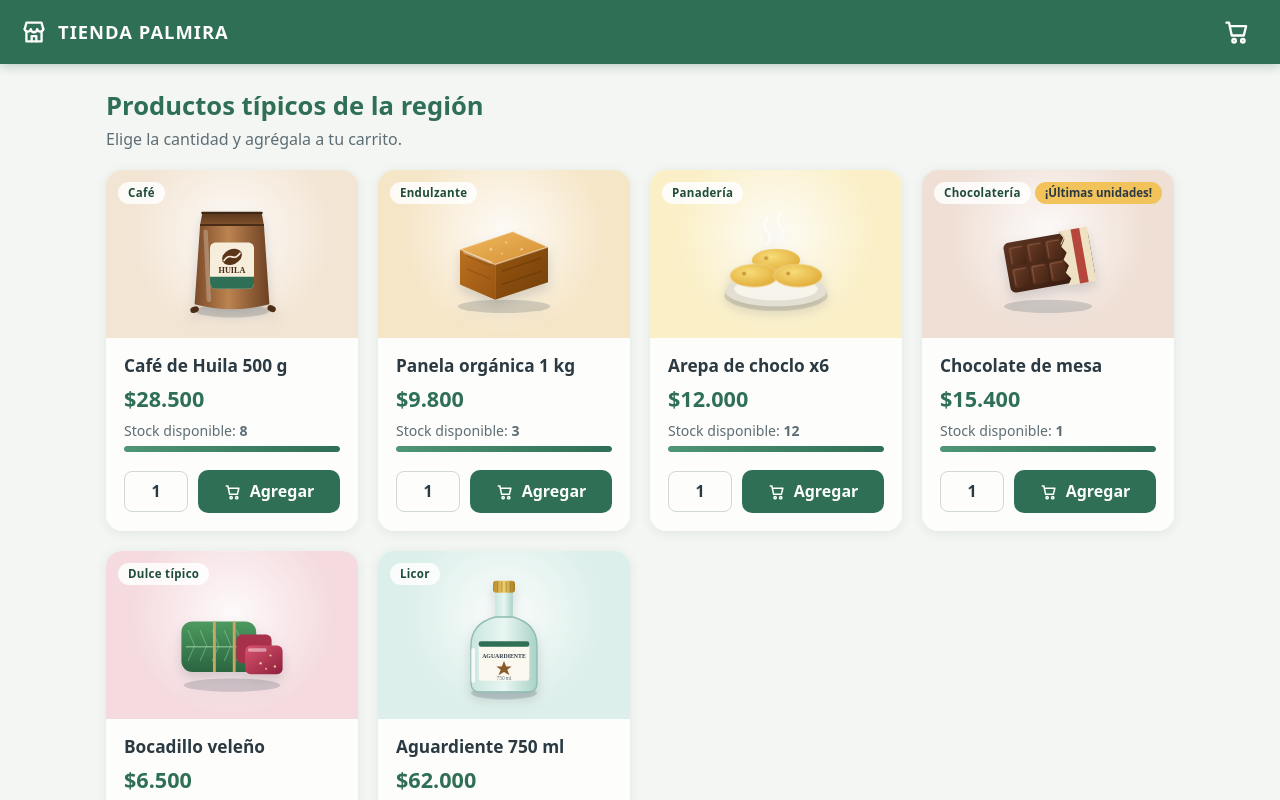
Scenario: Integración con el backend (API simulada) › Finalizar compra envía el pedido, vacía el carrito y confirma
Replace the text in the number field named "Cantidad de Café de Huila 500 g" with "2" at (156, 492), box [124, 471, 188, 512]
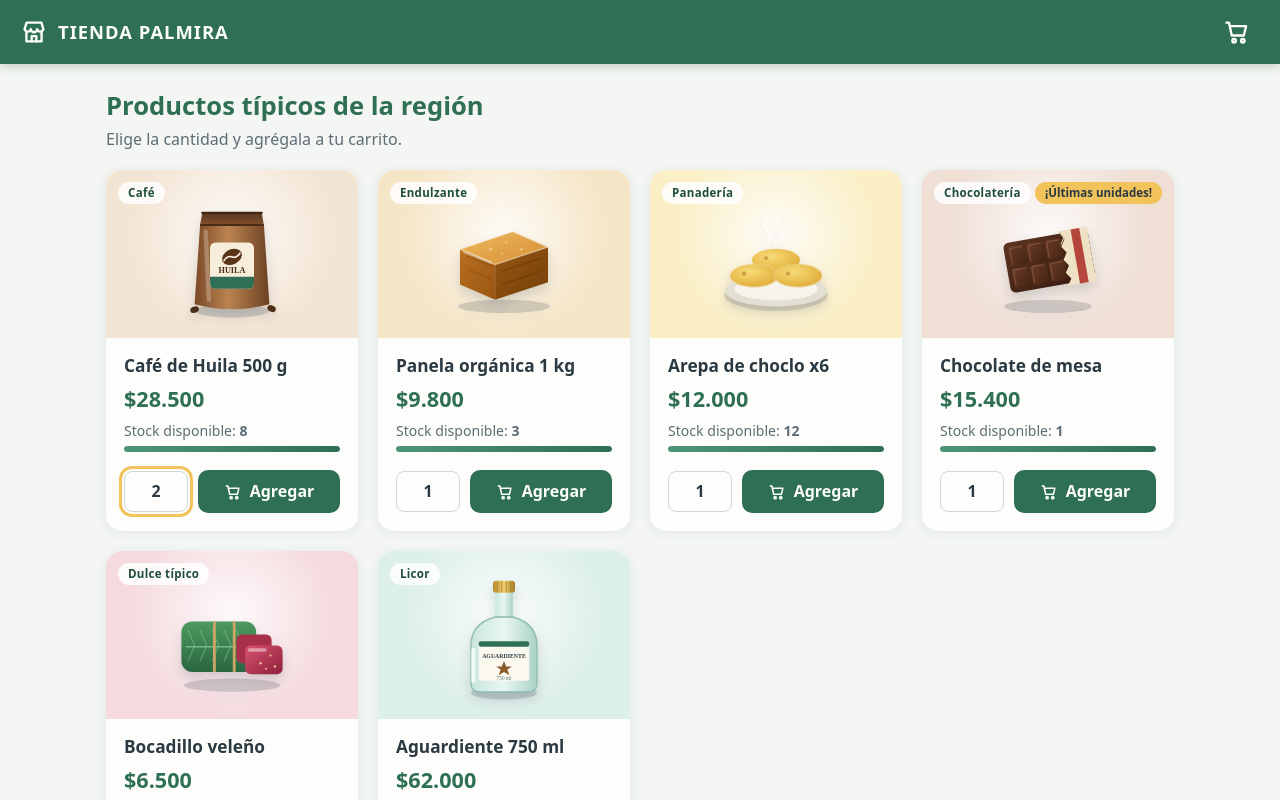
Click the button "Agregar" below "$28.500" at (269, 492), box [198, 470, 340, 513]
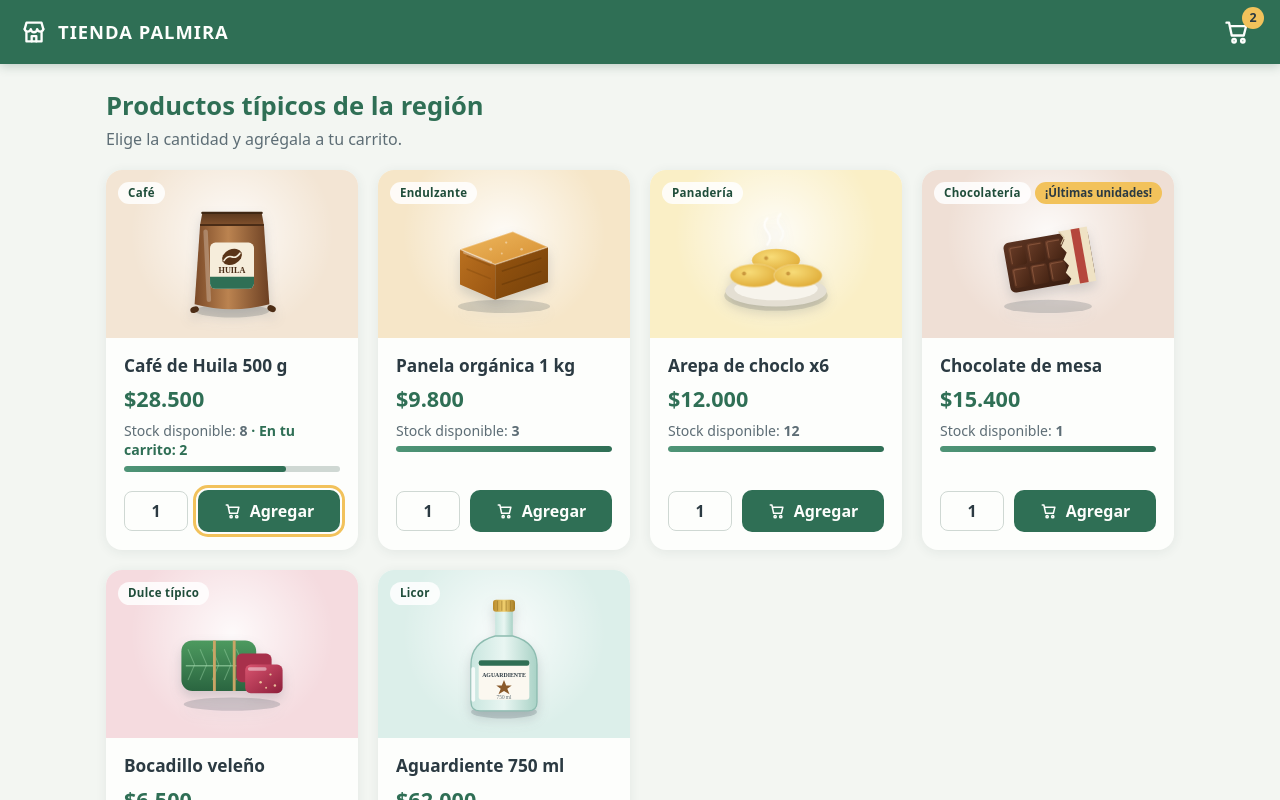
Click the button named "Abrir carrito" at (1237, 32), box [1214, 9, 1260, 55]
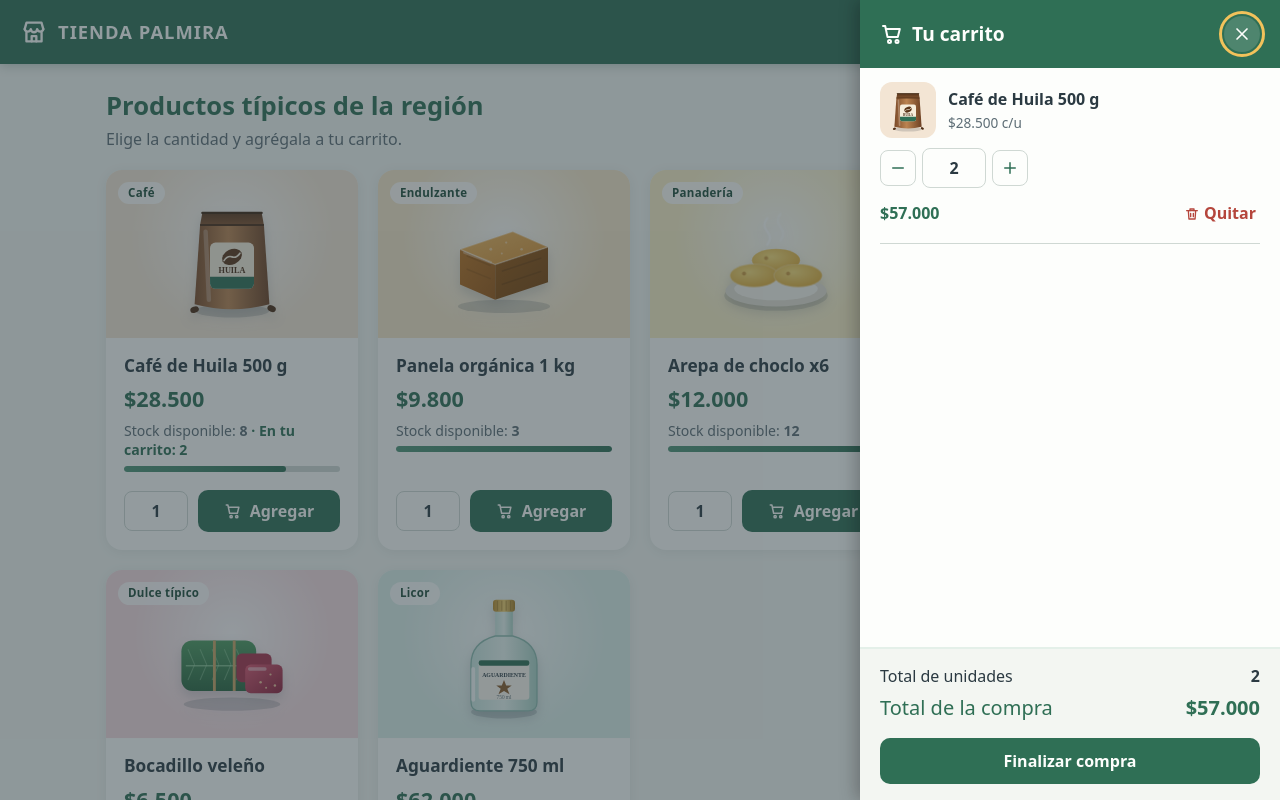
Click the button "Finalizar compra" at (1070, 761), box [880, 738, 1260, 784]
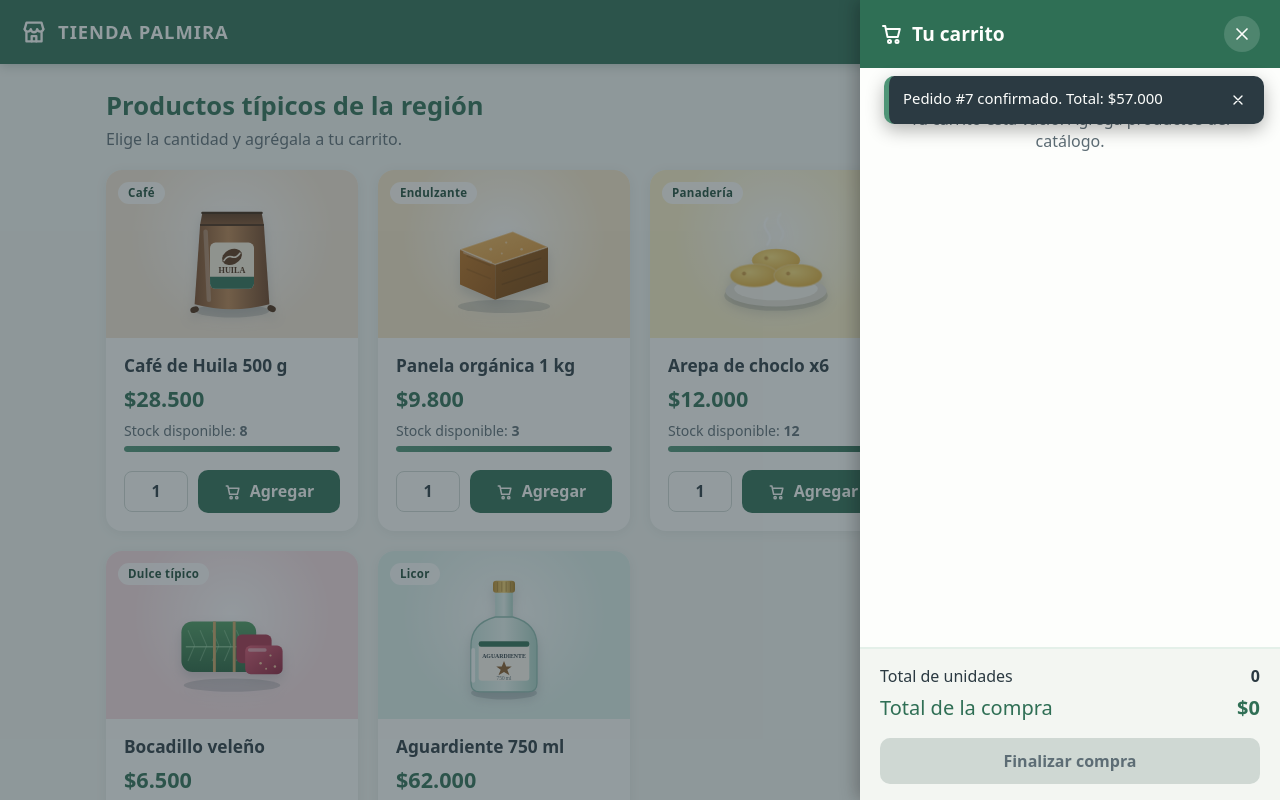
expect the text "Pedido #7 confirmado. Total: $57.000" is shown: met, box [903, 88, 1163, 108]
expect the text with test id "contador-carrito" is gone: met
